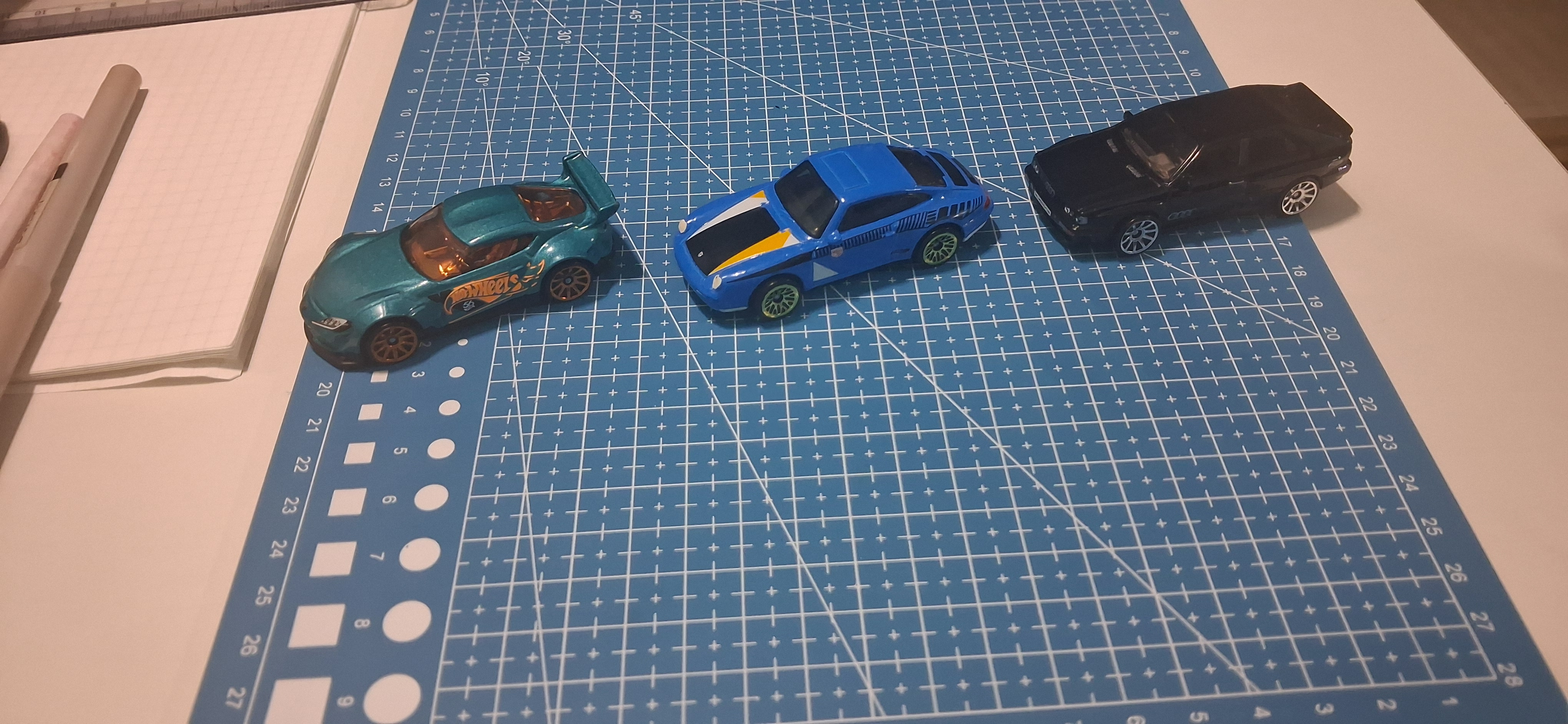Audi_Quattro: (1008, 45, 1380, 337)
Porsche_Carrera: (650, 112, 994, 405)
Toyota_GR_Supra: (253, 103, 632, 433)
